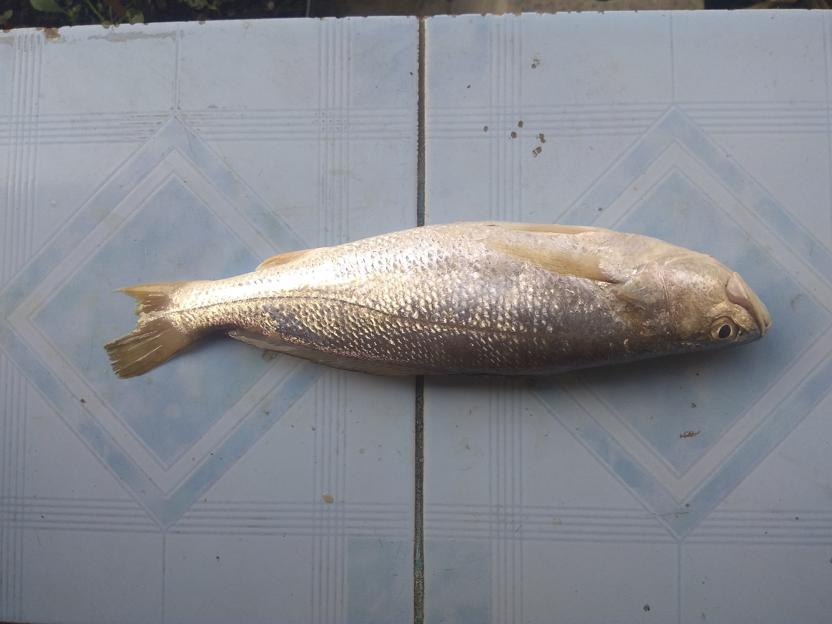Fish head: (622, 227, 773, 368)
Fish tail: (94, 282, 202, 382)
